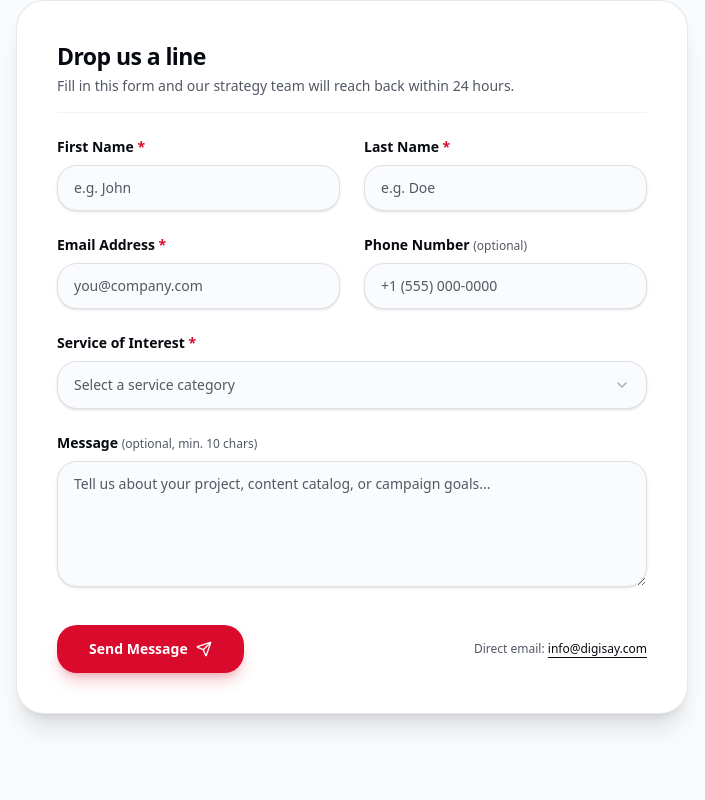
Test: Contact Form Validation & Submission › locks the form during an in-flight request and prevents duplicate submissions
The width and height of the screenshot is (705, 800).
Type "Elena" into the field labelled "First Name *". click: (198, 188)
box: [57, 165, 340, 211]
Type "Rostova" into the field labelled "Last Name *". click: (506, 188)
box: [364, 165, 647, 211]
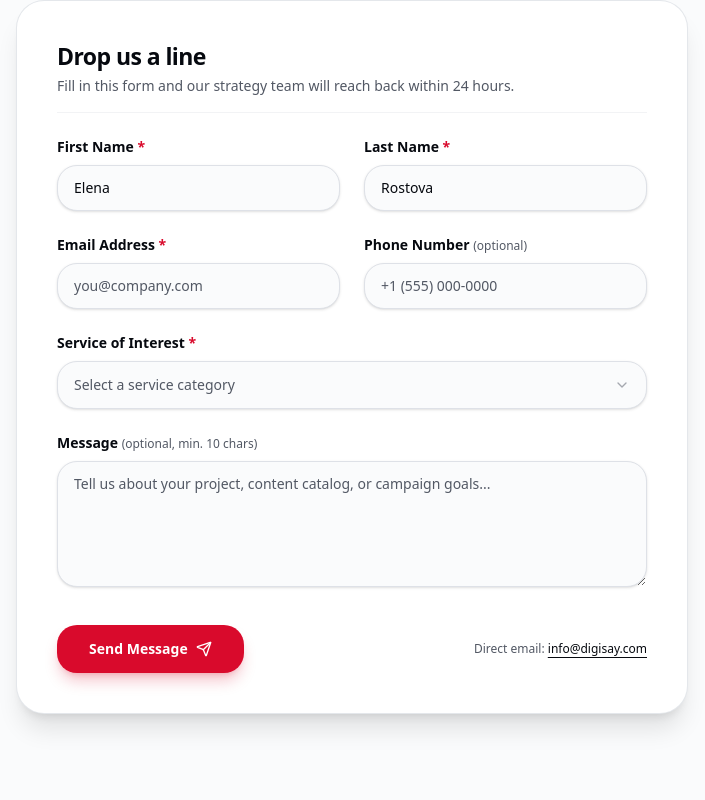
Type "elena@media-house.com" into the field labelled "Email Address *". click: (198, 286)
box: [57, 263, 340, 309]
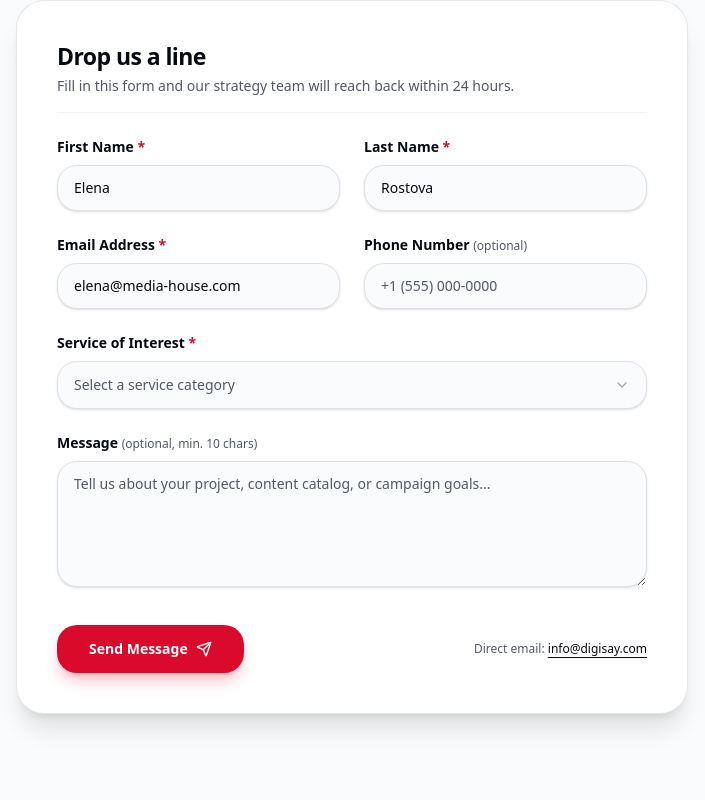
Click the dropdown. click: (154, 384)
box: [57, 361, 647, 409]
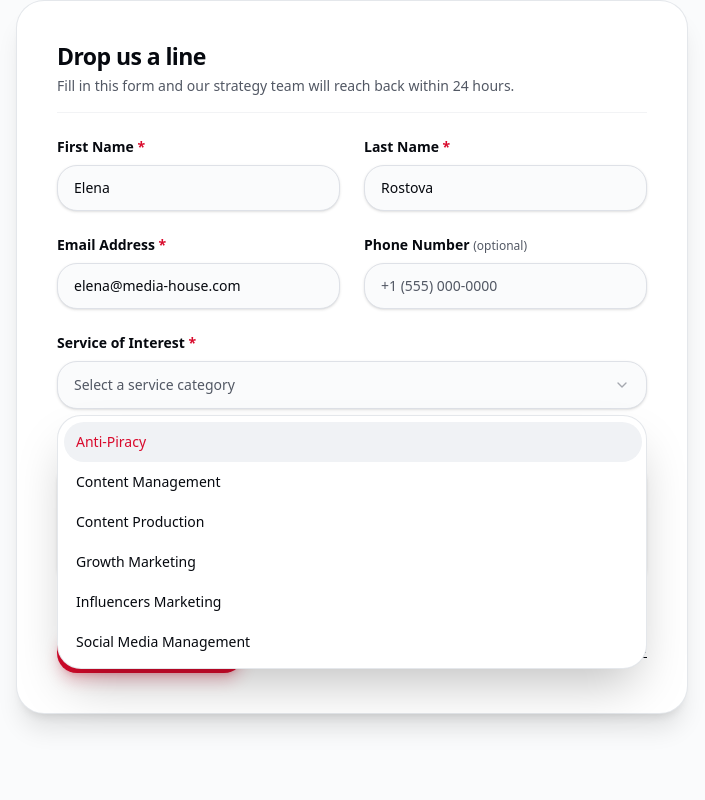
Click the option "Content Production". click: (140, 522)
box: [76, 512, 204, 531]
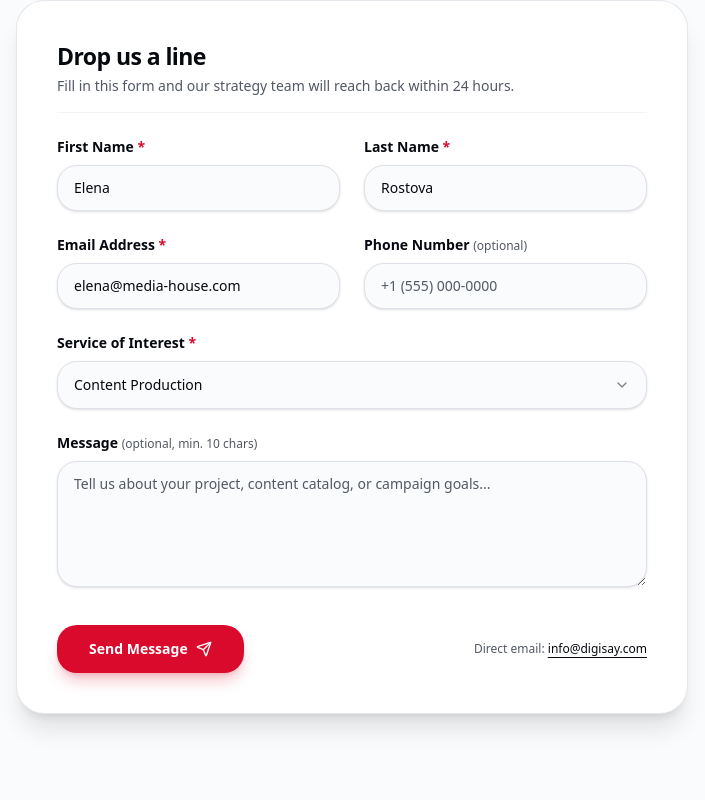
Submit the form
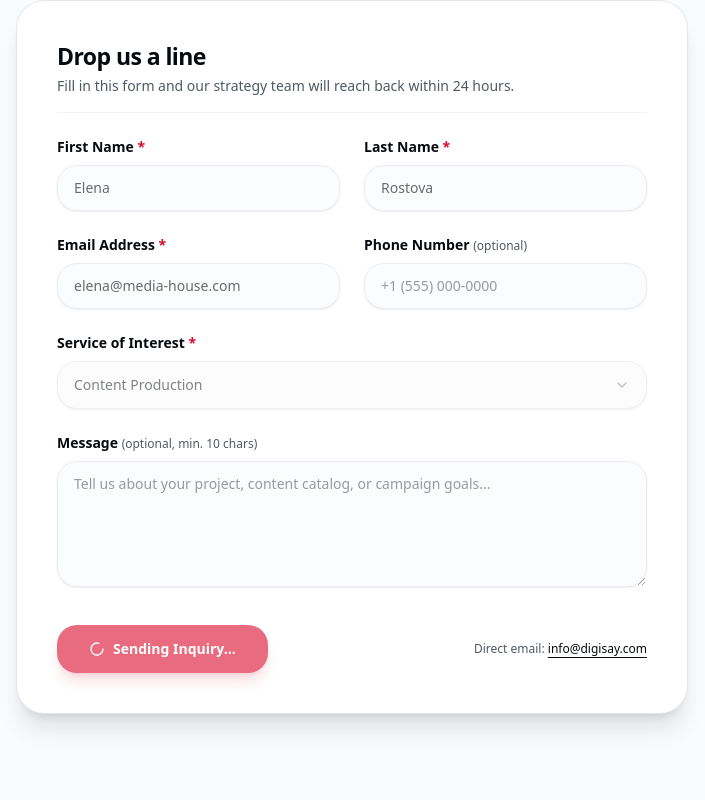
Check: the button "Sending Inquiry..." is disabled, box [57, 625, 268, 673]
Submit the form
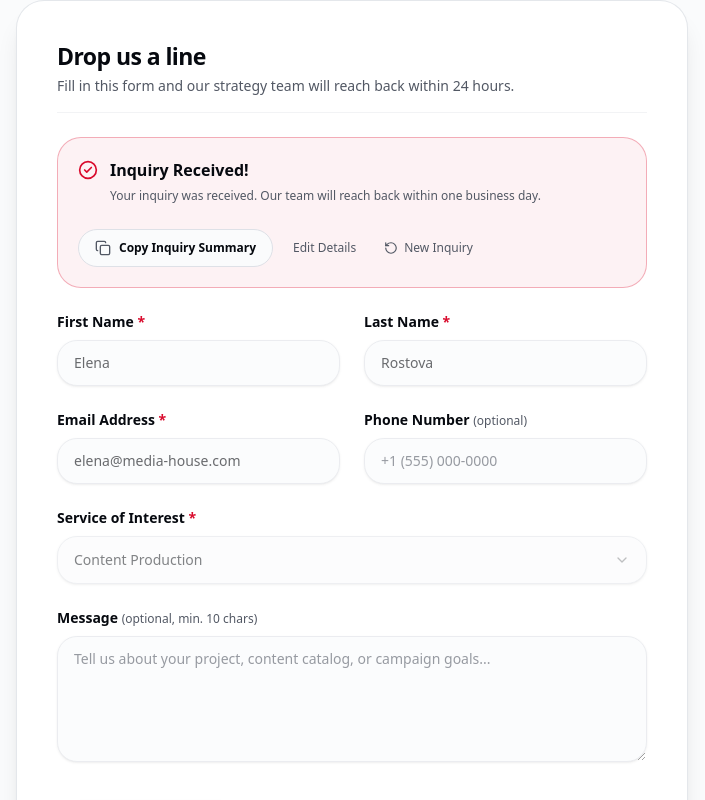
Check: the heading "Inquiry Received!" is shown, box [110, 159, 249, 181]
